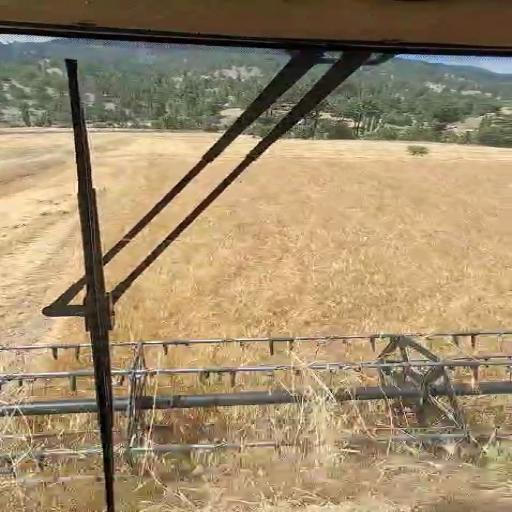bugday: (112, 140, 509, 339), (91, 133, 211, 245), (1, 155, 80, 294)
